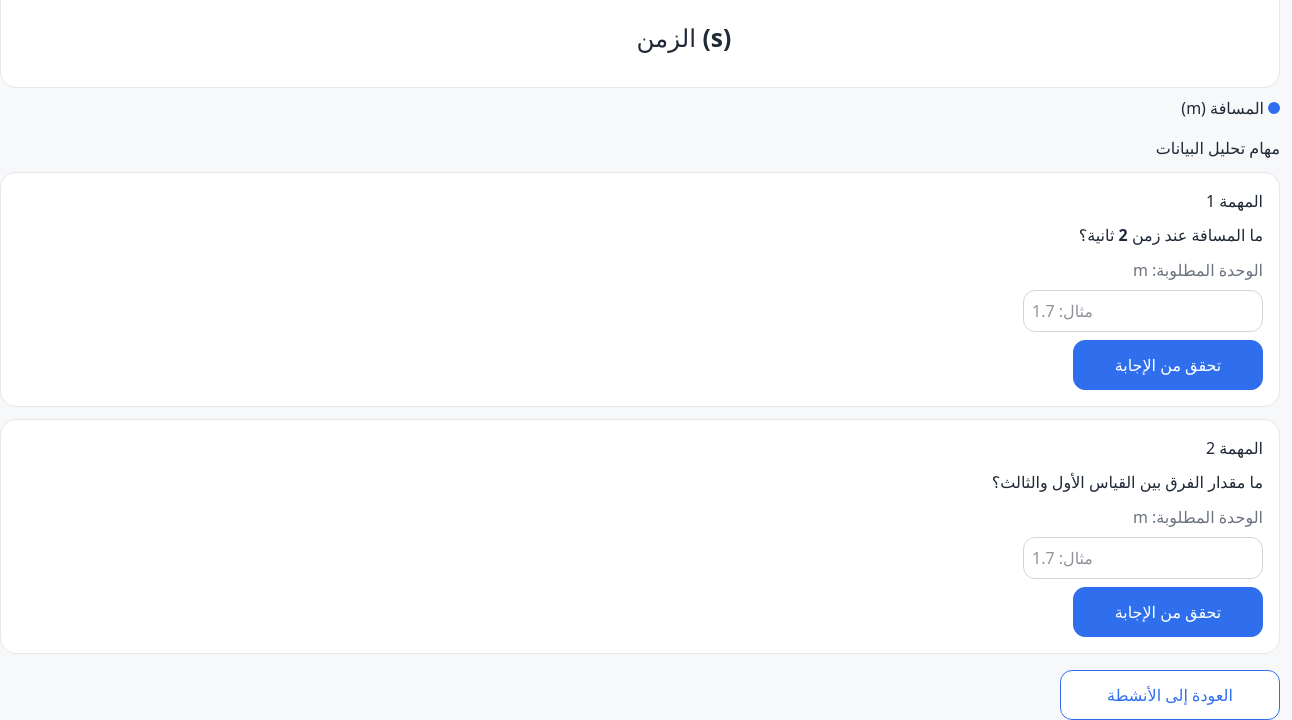
DataActivityRunner › يميز الإجابة الفارغة عن الإدخال غير الرقمي
The image size is (1292, 720).
(page scrolled)
Click the button "تحقق من الإجابة" below "ما المسافة عند زمن 2 ثانية؟". click: (1168, 365)
box: [1073, 340, 1263, 390]
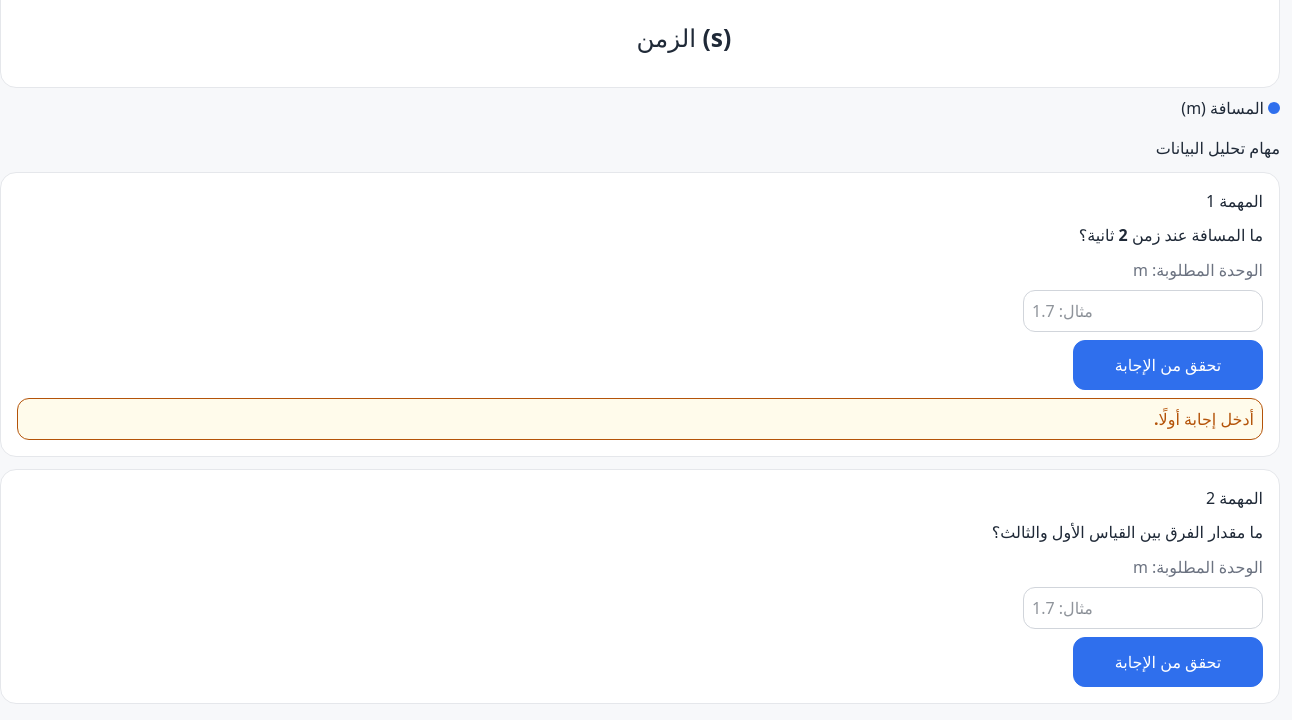
Expected: the text "أدخل إجابة أولًا." is shown, [17, 398, 1263, 440]
Type "abc" into the field labelled "ما المسافة عند زمن 2 ثانية؟". click: (1143, 311)
box: [1023, 290, 1263, 332]
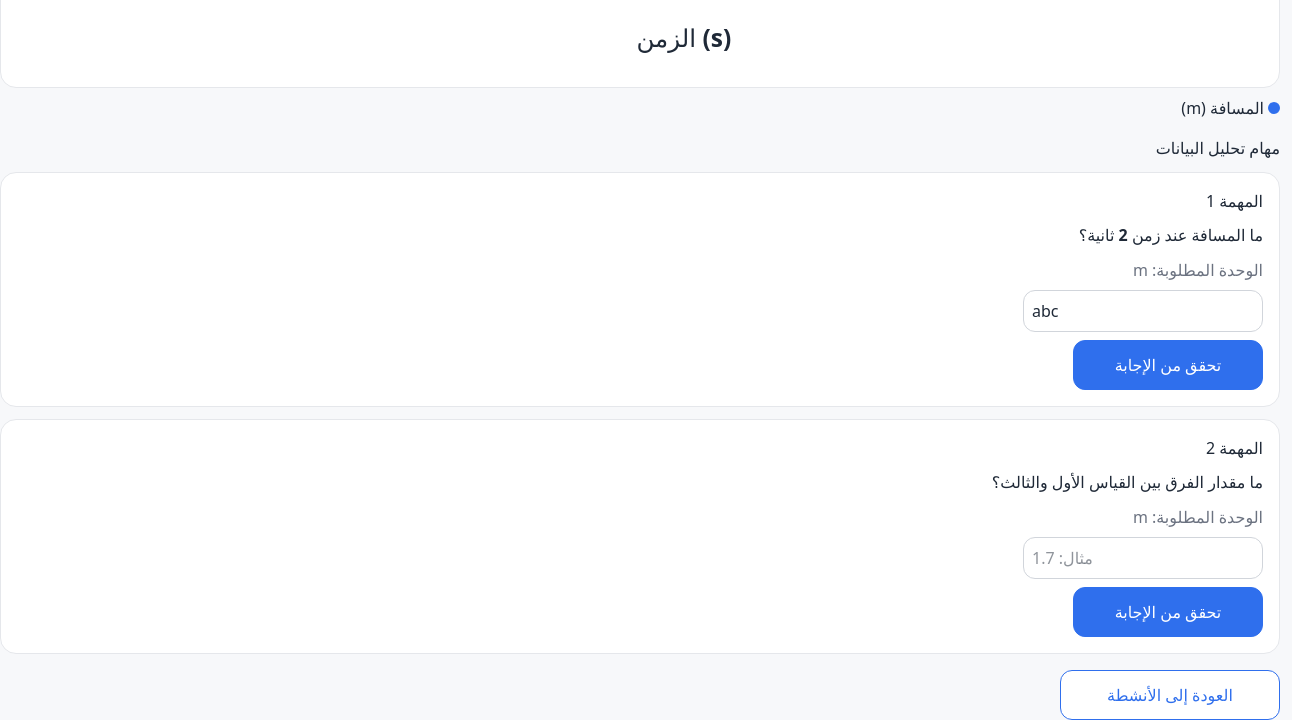
Click the button "تحقق من الإجابة" below "ما المسافة عند زمن 2 ثانية؟". click: (1168, 365)
box: [1073, 340, 1263, 390]
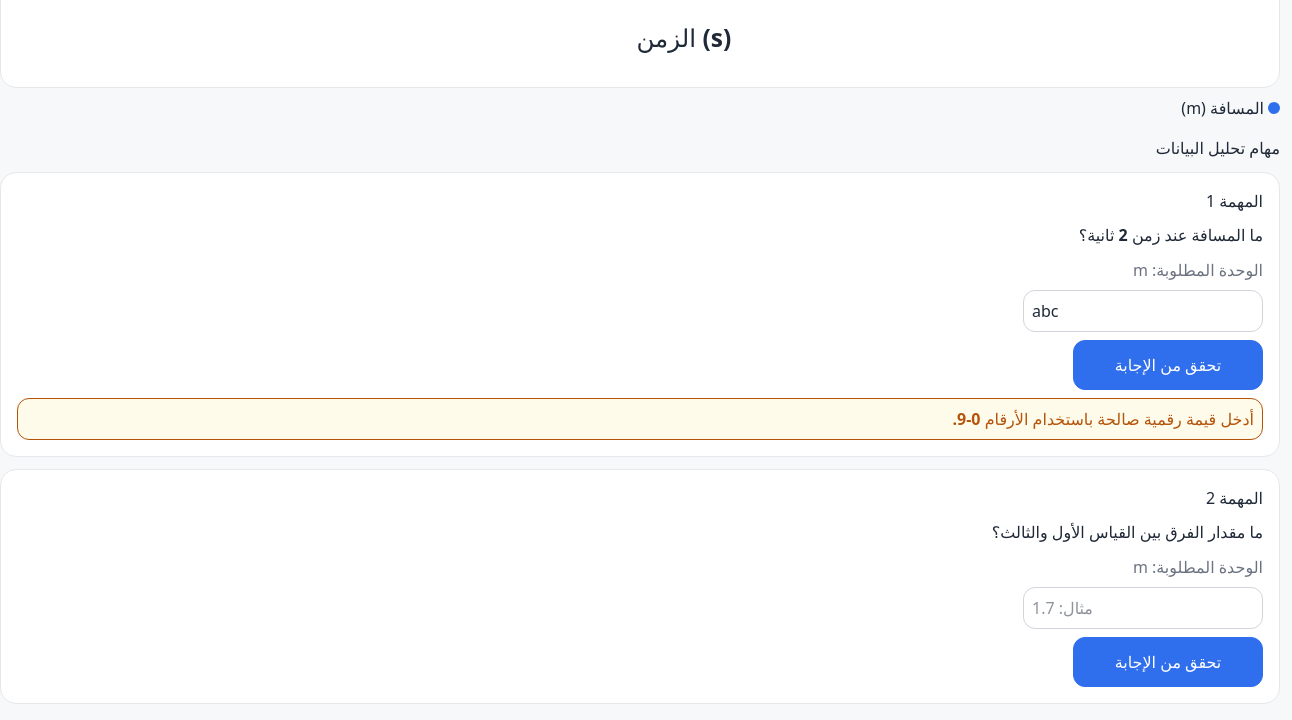
Expected: the text "أدخل قيمة رقمية صالحة باستخدام الأرقام 0-9." is shown, [17, 398, 1263, 440]
